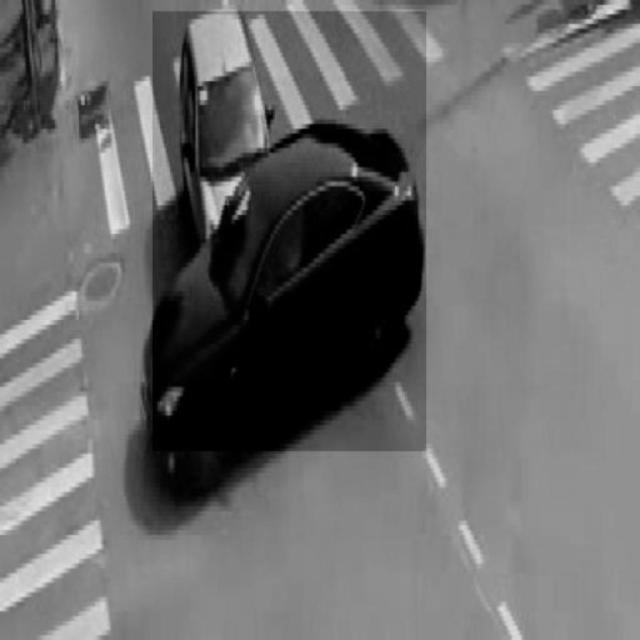accident: (153, 11, 426, 451)
